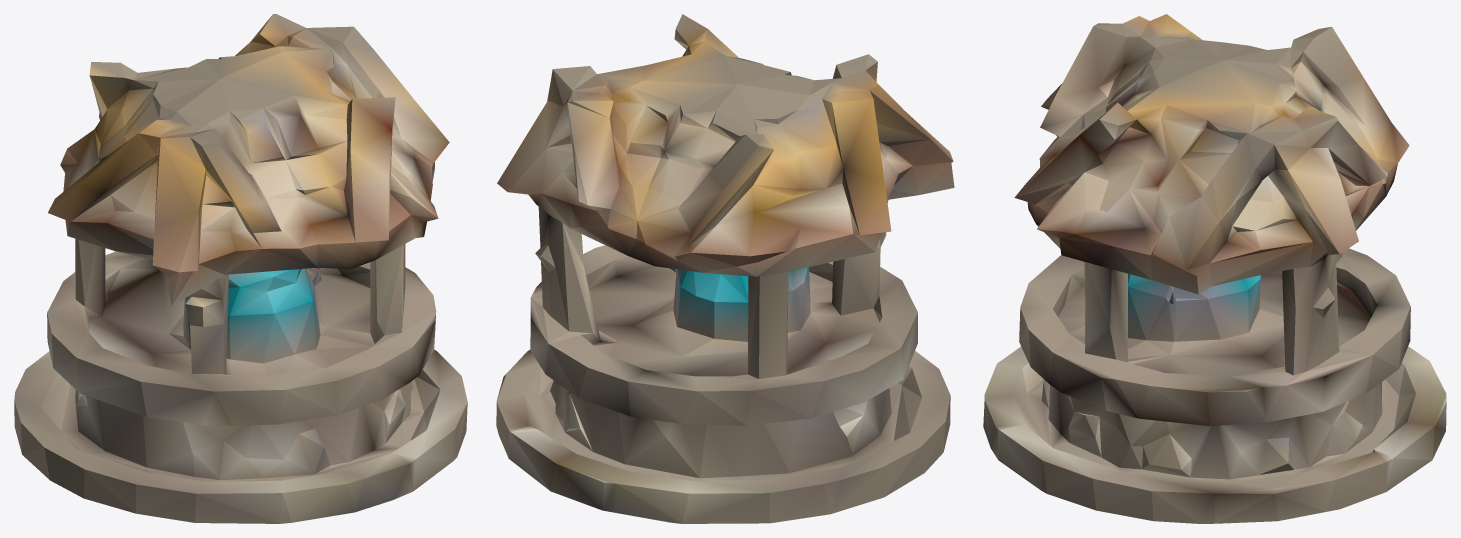
File: kuyu.glb
3 views of the same model, side by side, from view 1: azimuth 30°, elevation 25°; view 2: azimuth 150°, elevation 25°; view 3: azimuth 270°, elevation 25° (orthographic).
Parts seen in each view (by area): view 1: geometry_0; view 2: geometry_0; view 3: geometry_0.
Boxes of the visible parts, <box> form: geometry_0: <box>14,14,467,523</box>; geometry_0: <box>496,14,954,523</box>; geometry_0: <box>983,14,1446,523</box>.
Size of the model in its own units: 1.17 by 1 by 1.17.
